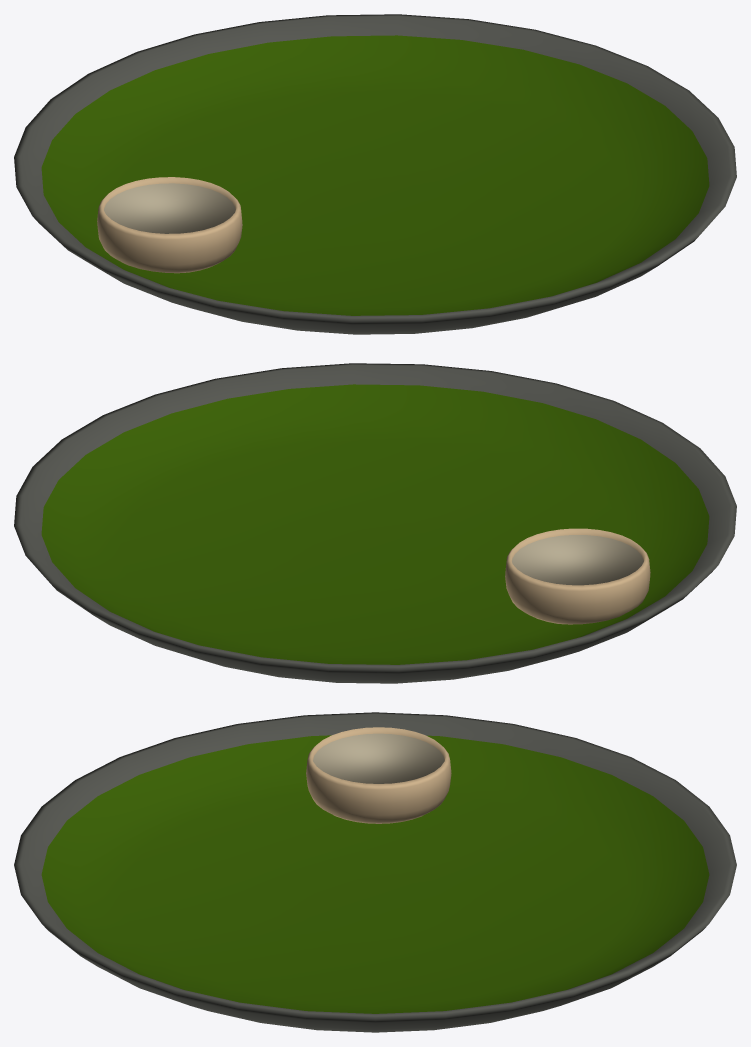
File: Plate01.fbx
3 views of the same model, one above another, from view 1: azimuth 30°, elevation 25°; view 2: azimuth 150°, elevation 25°; view 3: azimuth 270°, elevation 25° (orthographic).
Parts seen in each view (by area): view 1: Sphere.001; view 2: Sphere.001; view 3: Sphere.001.
Boxes of the visible parts, x1,y1,x2,y2 form: Sphere.001: (14, 14, 736, 334); Sphere.001: (14, 363, 736, 683); Sphere.001: (14, 712, 736, 1032).
Bounding box in the file's own units: 291 × 29.09 × 291.
